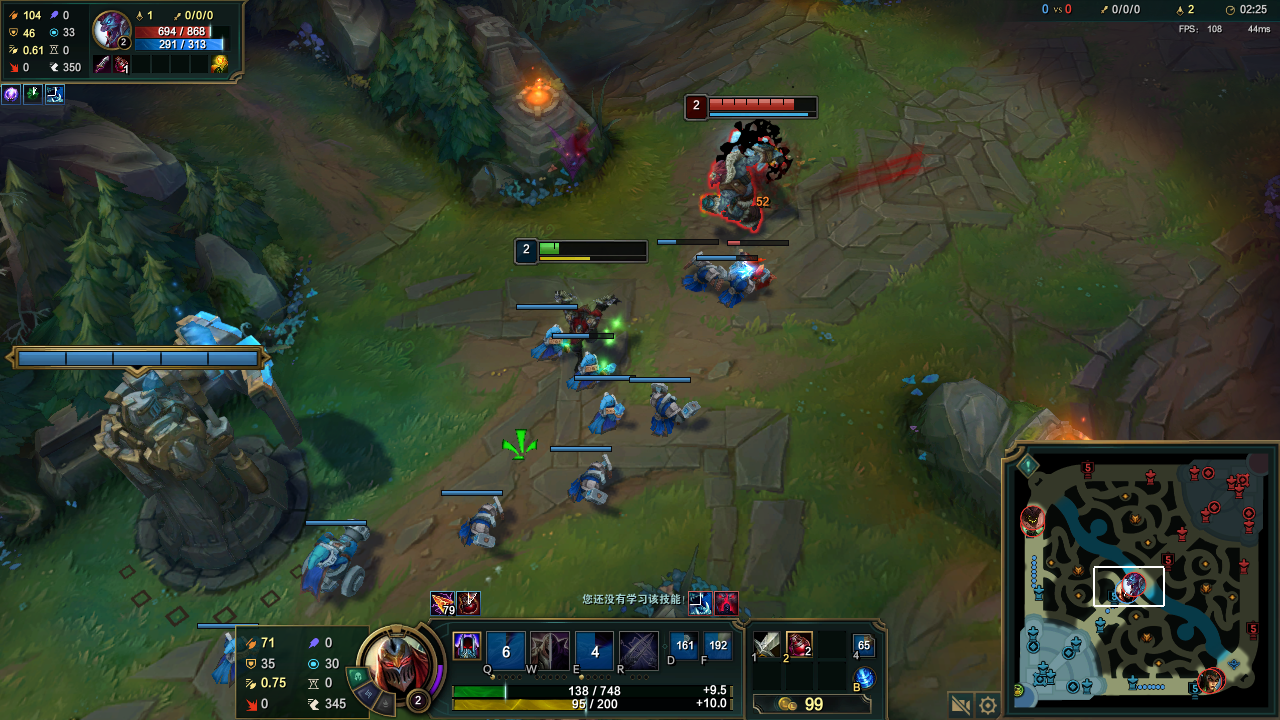DFYX: (711, 98, 815, 111)
WFXB: (300, 524, 378, 599)
